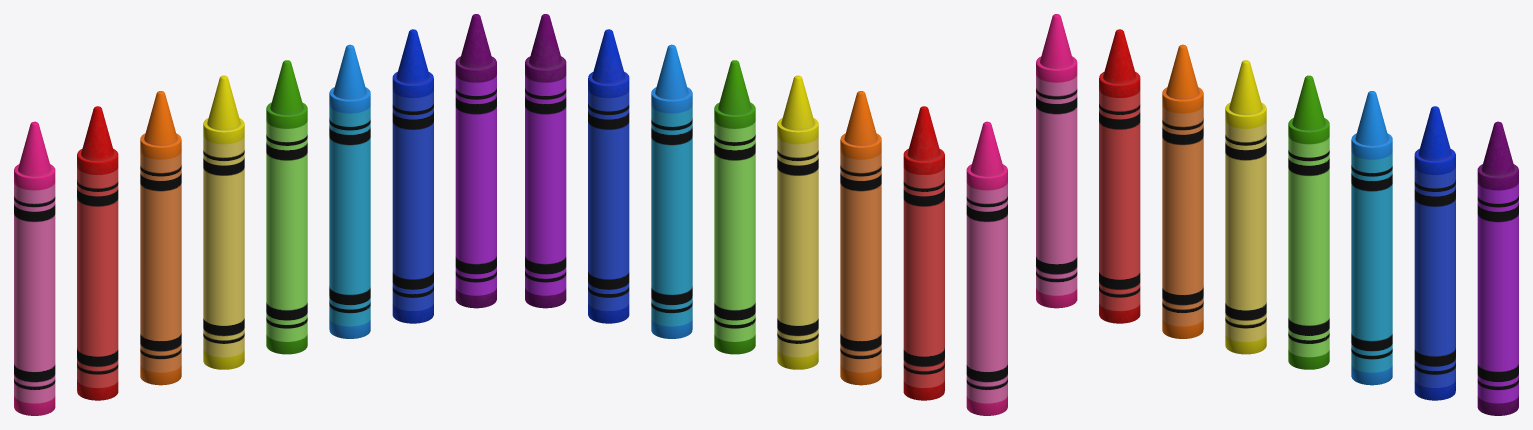
Rendered from Kreyons.fbx.
3 renders of one model, left to right at view 1: azimuth 30°, elevation 25°; view 2: azimuth 150°, elevation 25°; view 3: azimuth 330°, elevation 25°, orthographic.
Visible parts, largest first — view 1: Cylinder; view 2: Cylinder; view 3: Cylinder.
Boxes of the visible parts, x1=… form: Cylinder: x1=14, y1=14, x2=496, y2=415; Cylinder: x1=525, y1=14, x2=1007, y2=415; Cylinder: x1=1036, y1=14, x2=1518, y2=415.
Bounding box in the file's own units: 425 × 242 × 31.94.
Materials: 1 (1 with a texture image).
